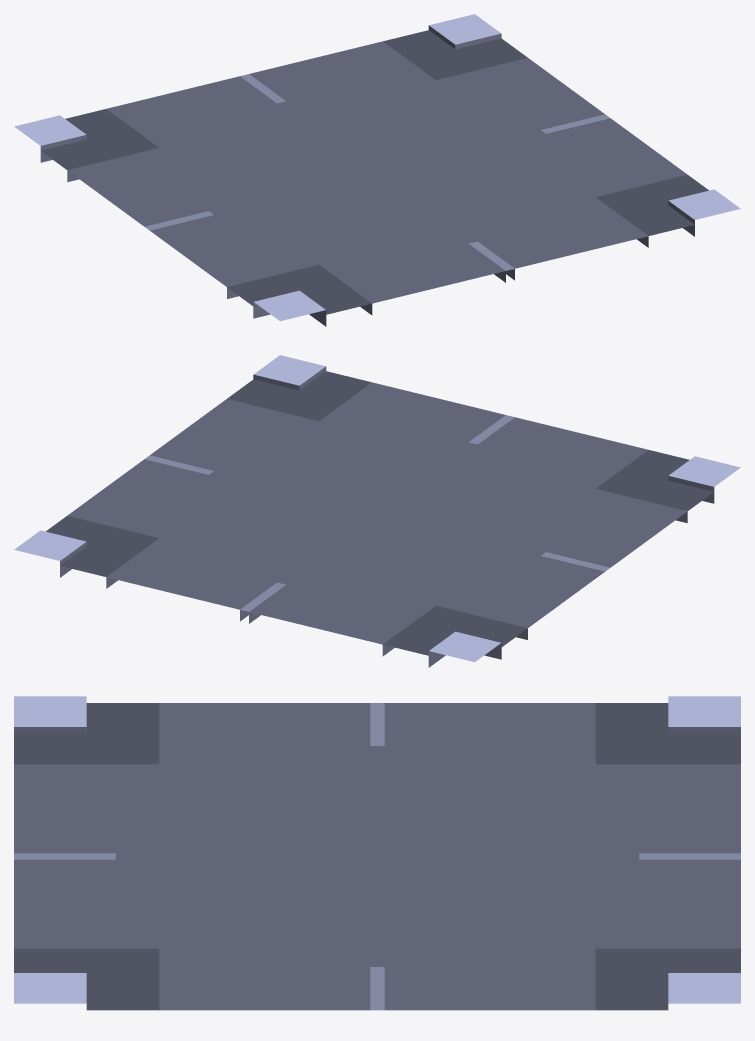
The model's file is road-crossroad.glb.
3 views of the same model, one above another, from view 1: azimuth 30°, elevation 25°; view 2: azimuth 150°, elevation 25°; view 3: azimuth 270°, elevation 25° (orthographic). The views are drawn at different scales.
Parts seen in each view (by area): view 1: road-crossroad; view 2: road-crossroad; view 3: road-crossroad.
Boxes of the visible parts, left/top/right/bottom form: road-crossroad: left=14, top=14, right=740, bottom=326; road-crossroad: left=14, top=355, right=740, bottom=667; road-crossroad: left=14, top=696, right=740, bottom=1010.
Size of the model in its own units: 1 by 0.035 by 1.
Materials: 1 (1 with a texture image).
